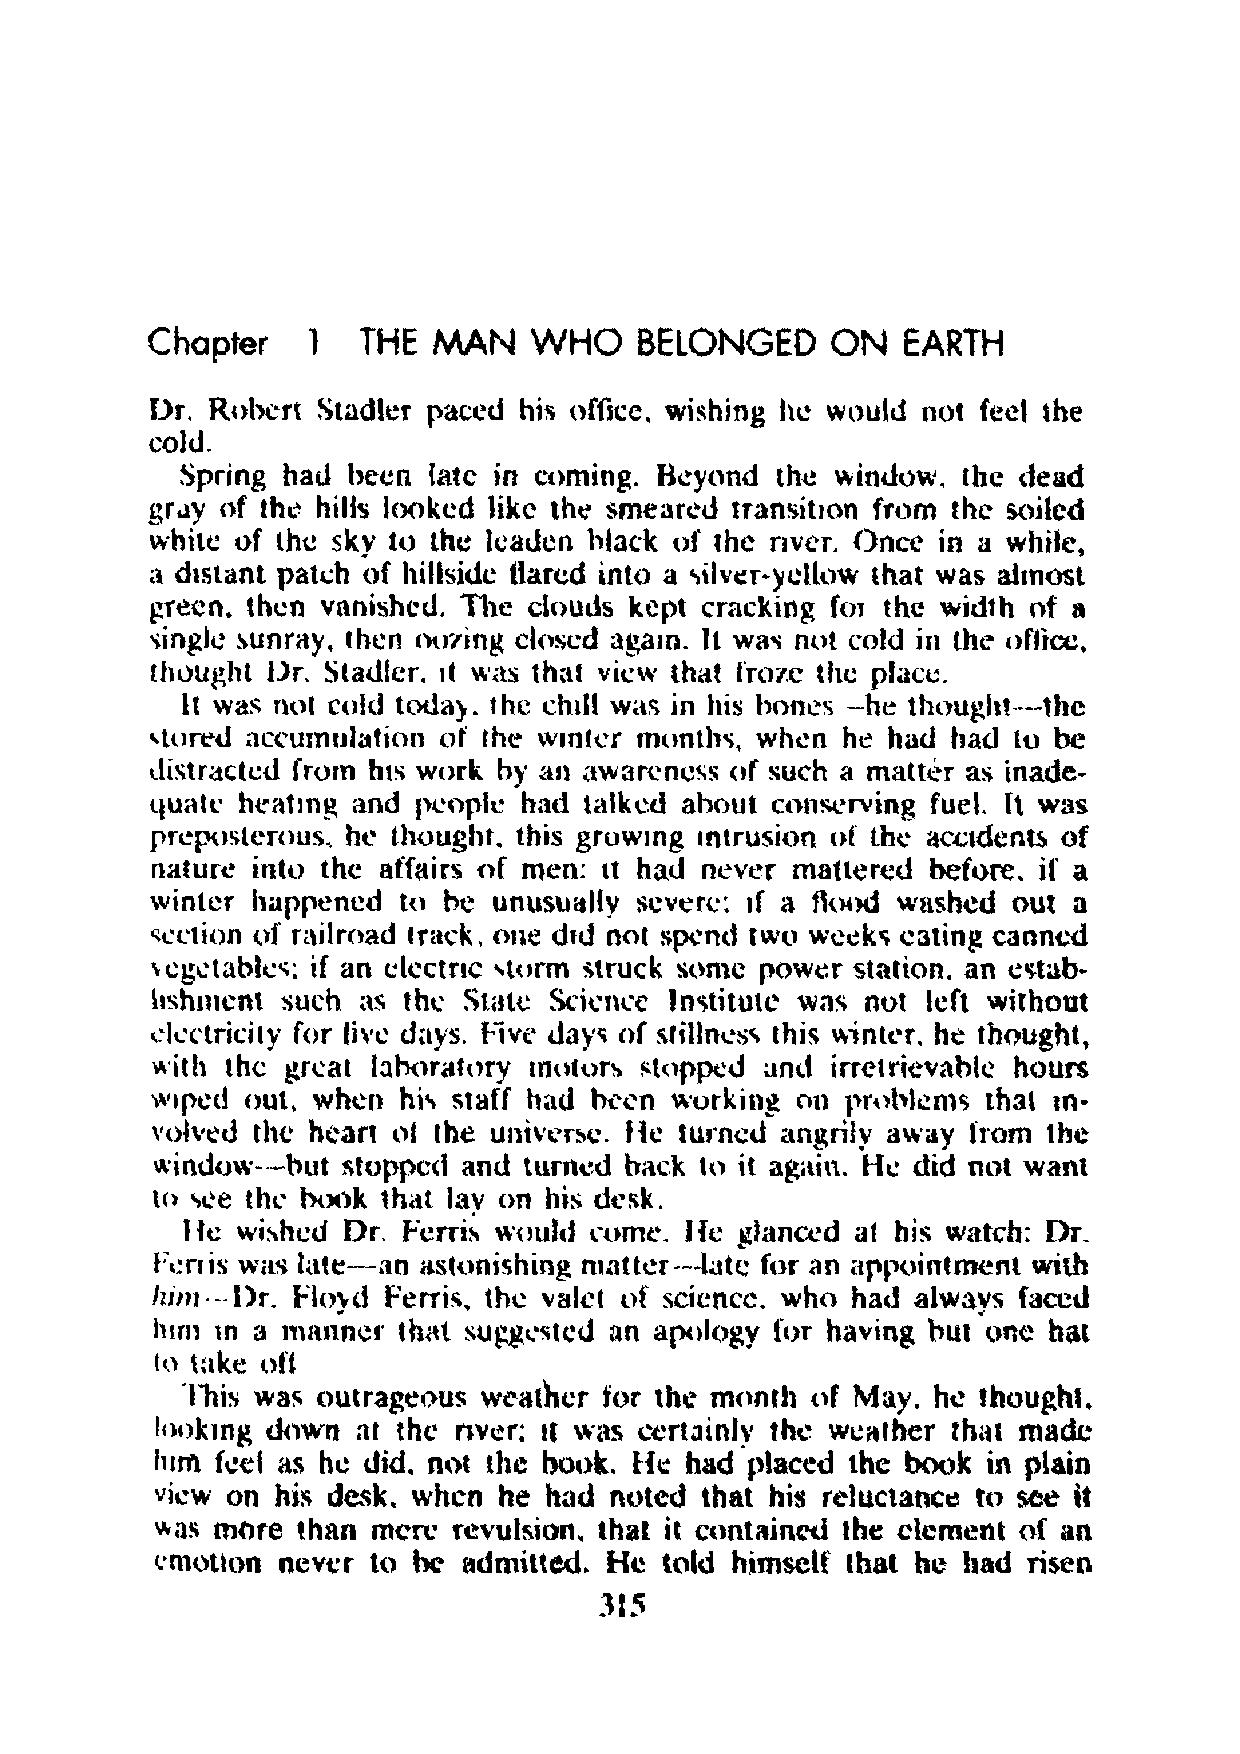chapter: (144, 319, 1006, 365)
content: (145, 392, 1091, 1577)
content_pagenumber: (597, 1588, 648, 1620)
